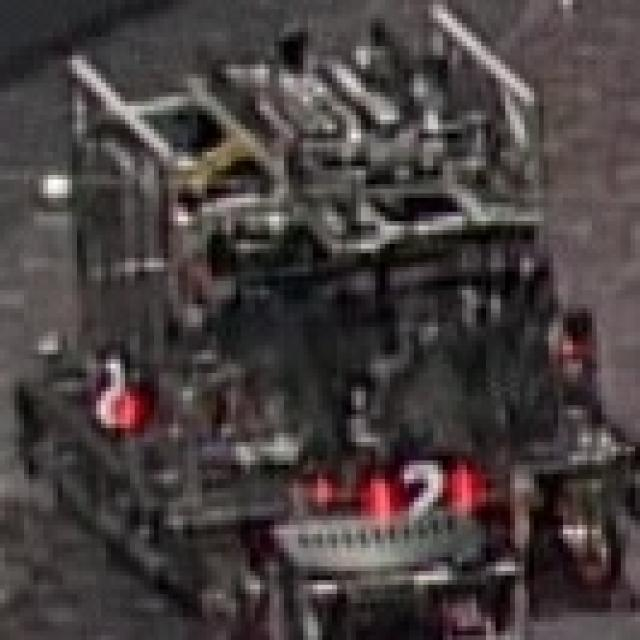R2: (371, 456, 476, 516), (86, 354, 140, 433)
